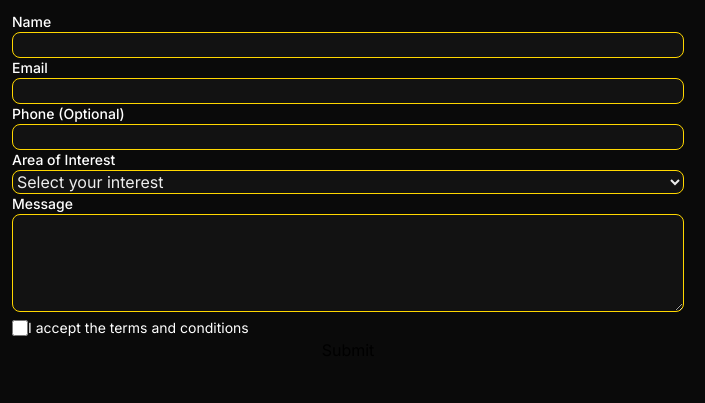
ContactForm › submits form with valid data
// Fill out form fields
Type "Test User" into the field labelled "Name". click: (348, 45)
box: x1=12 y1=32 x2=684 y2=58
Type "test@example.com" into the field labelled "Email". click: (348, 91)
box: x1=12 y1=78 x2=684 y2=104
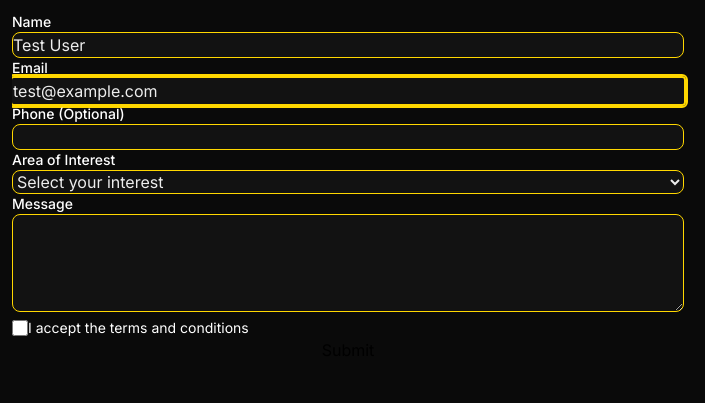
Type "+1234567890" into the field labelled "Phone (Optional)". click: (348, 137)
box: x1=12 y1=124 x2=684 y2=150
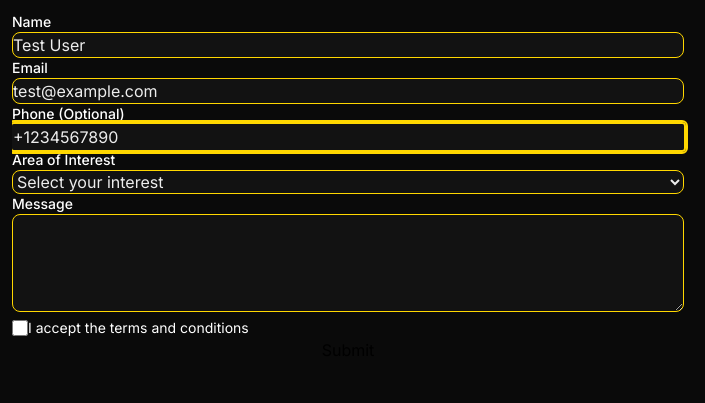
Select "Katana" in the dropdown labelled "Area of Interest". click: (348, 182)
box: x1=12 y1=170 x2=684 y2=194
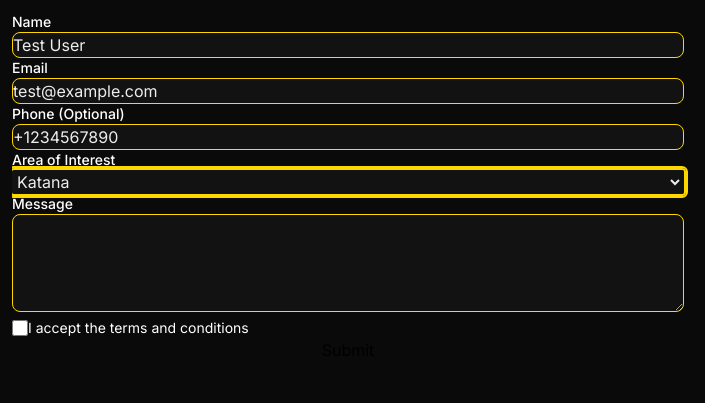
Type "This is a test message that meets the minimum length requirement" into the text box labelled "Message". click: (348, 263)
box: x1=12 y1=214 x2=684 y2=312
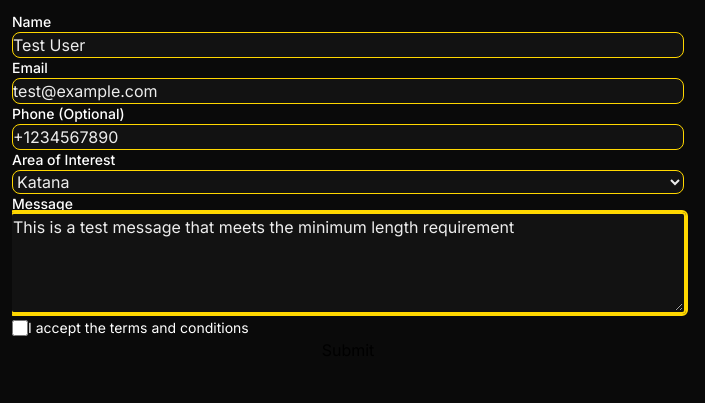
Click the checkbox labelled "I accept the terms and conditions". click: (20, 328)
box: x1=12 y1=320 x2=28 y2=336
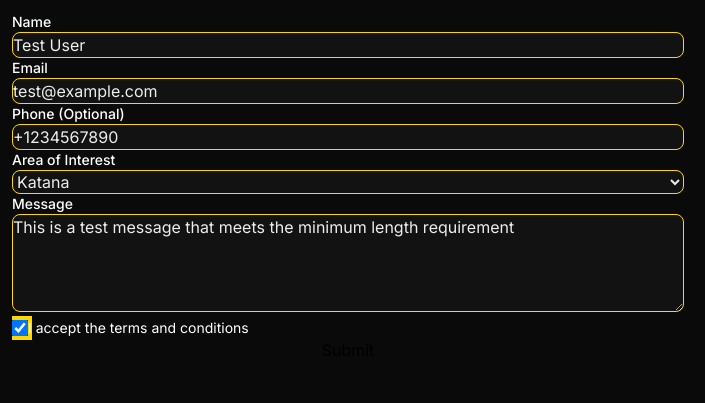
// Submit form
Click the button "Submit". click: (348, 350)
box: x1=12 y1=338 x2=684 y2=362
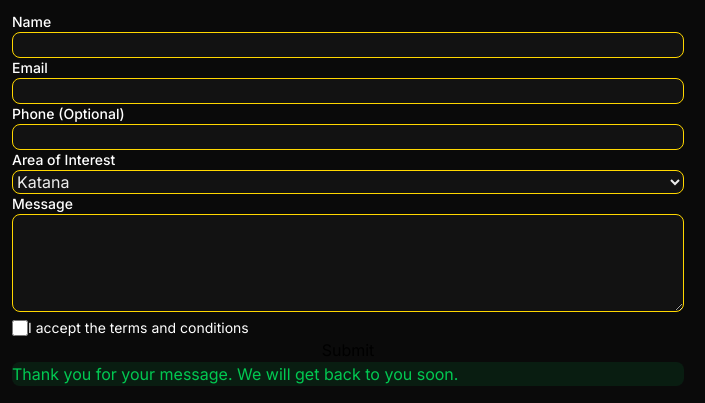
expect the text "Thank you for your message. We will get back to you soon." is shown: met, box x1=12 y1=362 x2=684 y2=386
